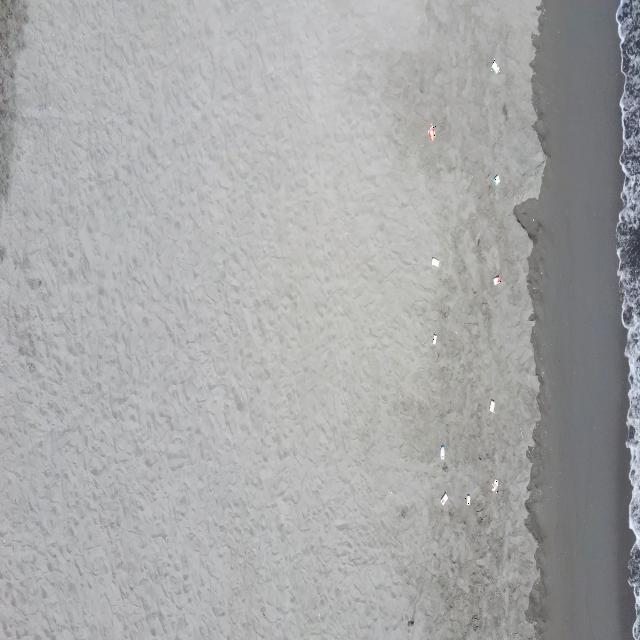Garbage: (427, 125, 435, 140), (491, 60, 499, 72), (488, 399, 495, 412), (492, 173, 500, 184), (440, 492, 447, 504), (432, 256, 439, 267), (491, 480, 497, 492), (492, 275, 500, 283), (432, 332, 436, 344), (440, 444, 443, 460), (466, 493, 470, 504)
